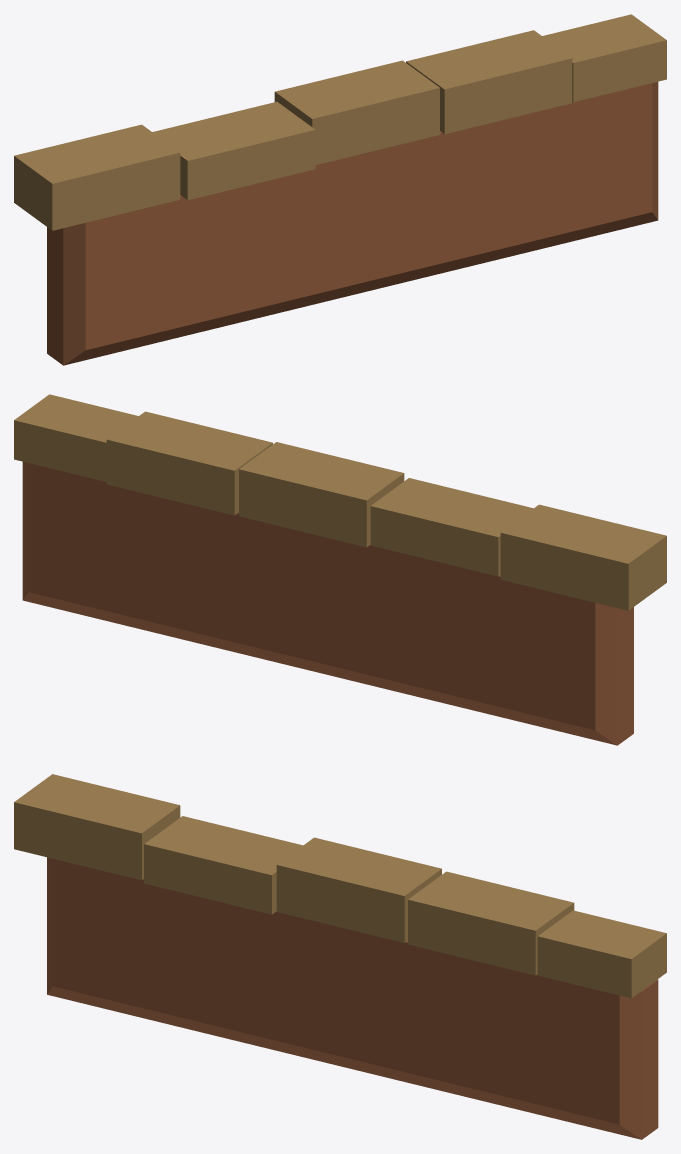
The model's file is 2x0_5RooftopWall.fbx.
3 renders of one model, top to bottom at view 1: azimuth 30°, elevation 25°; view 2: azimuth 150°, elevation 25°; view 3: azimuth 330°, elevation 25°, orthographic.
Parts seen in each view (by area): view 1: 2x0.5RooftopWall; view 2: 2x0.5RooftopWall; view 3: 2x0.5RooftopWall.
Boxes of the visible parts, x1=… form: 2x0.5RooftopWall: x1=14, y1=14, x2=666, y2=365; 2x0.5RooftopWall: x1=14, y1=394, x2=666, y2=745; 2x0.5RooftopWall: x1=14, y1=774, x2=666, y2=1139.
Bounding box in the file's own units: 218 × 65.85 × 25.66.
